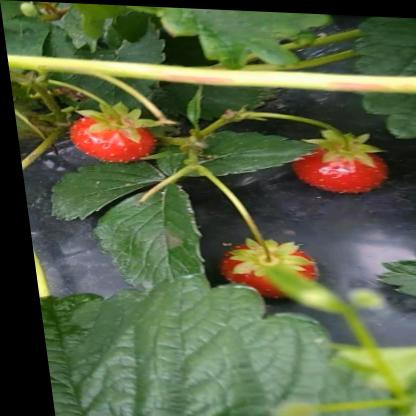ripe: (210, 239, 326, 297), (289, 134, 390, 193), (63, 115, 153, 171)
